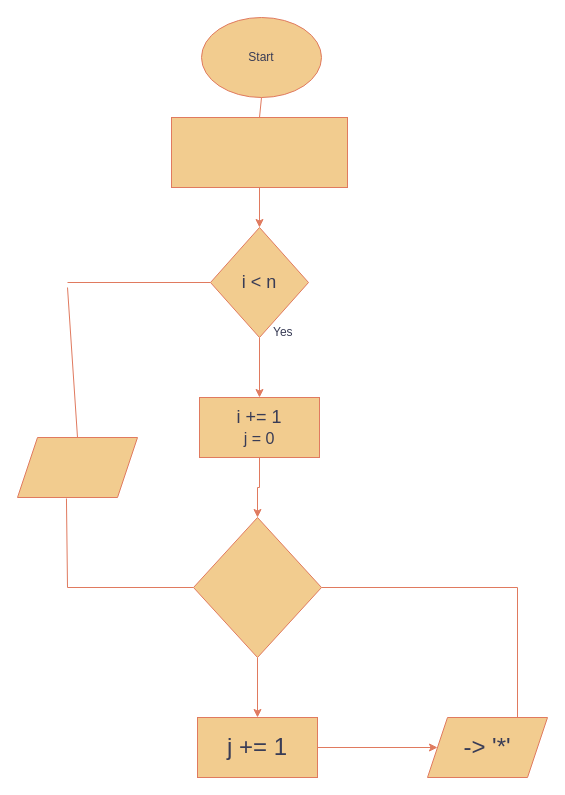
This 565x795 diagram has some shape labels left out. The shapes that lost their labels are listed below. From the top down, each one's box as (x1, y1, x2, y2) in pixels, then its label:
(170, 116, 348, 188): i = 0 n = 4
(16, 436, 138, 498): -> '\n'
(192, 516, 322, 658): j < n - i + 1
